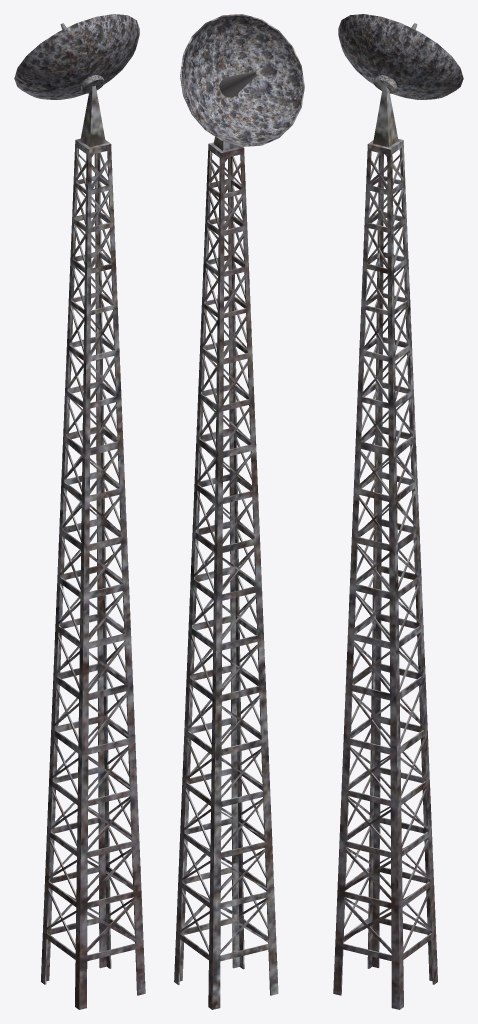
File: radar_end.fbx
The picture shows the model from 3 angles, left to right: view 1: azimuth 30°, elevation 25°; view 2: azimuth 210°, elevation 25°; view 3: azimuth 330°, elevation 25°; orthographic projection.
Parts seen in each view (by area): view 1: pCube1, pSphere8; view 2: pCube1, pSphere8; view 3: pCube1, pSphere8.
Boxes of the visible parts, box(x1,y1,x2,y2) form: pCube1: box(41, 85, 145, 1009); pSphere8: box(14, 14, 139, 99); pCube1: box(174, 136, 278, 1009); pSphere8: box(180, 14, 304, 146); pCube1: box(333, 86, 437, 1009); pSphere8: box(338, 14, 463, 99).
Bounding box in the file's own units: 105 × 819 × 83.22.
